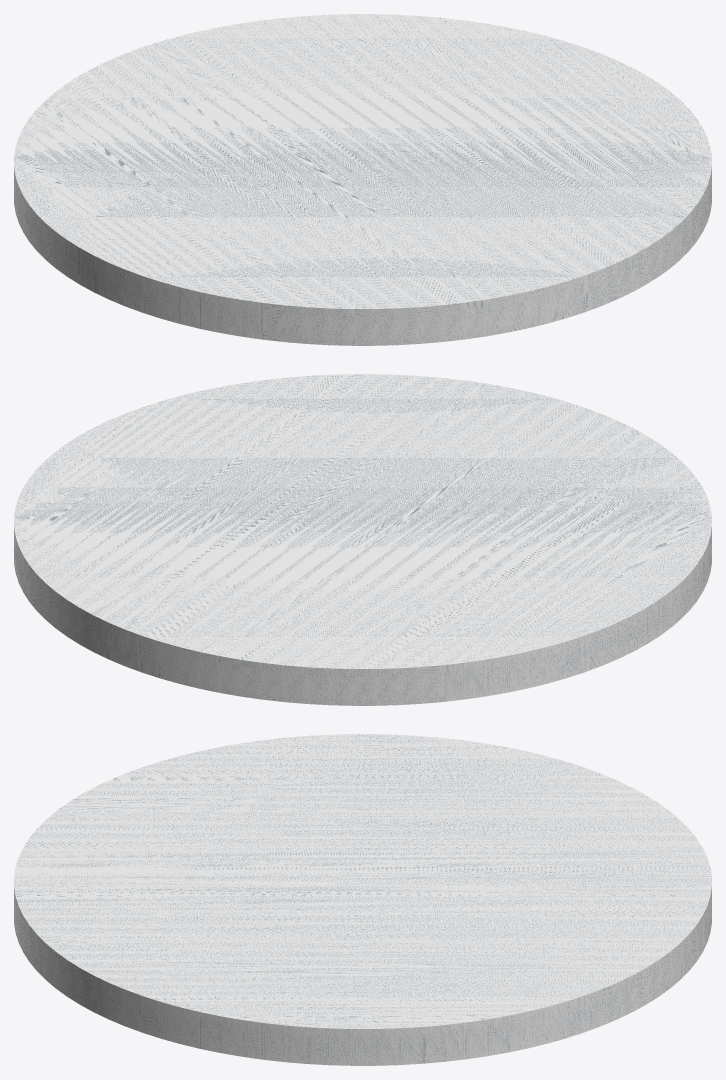
The picture shows the model from 3 angles, top to bottom: view 1: azimuth 30°, elevation 25°; view 2: azimuth 150°, elevation 25°; view 3: azimuth 270°, elevation 25°; orthographic projection.
Parts seen in each view (by area): view 1: Model; view 2: Model; view 3: Model.
Boxes of the visible parts, x1=… form: Model: x1=14, y1=14, x2=711, y2=345; Model: x1=14, y1=374, x2=711, y2=705; Model: x1=14, y1=734, x2=711, y2=1065.
Bounding box in the file's own units: 1376 × 80 × 1376.
